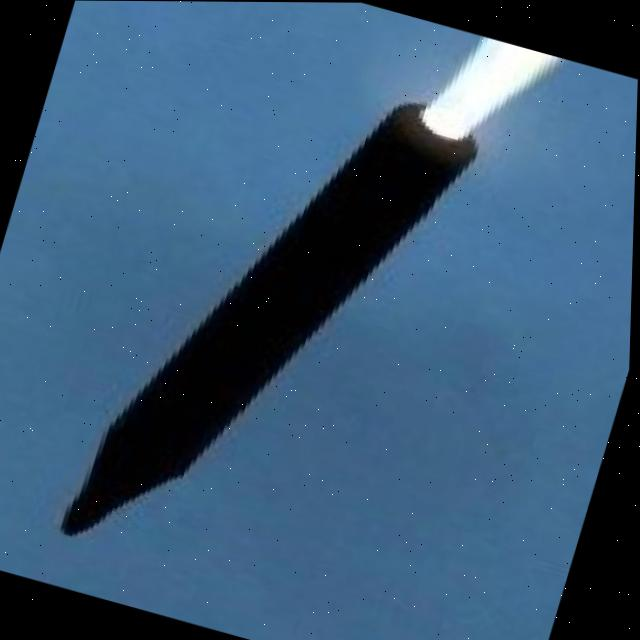missile: (58, 42, 491, 615)
